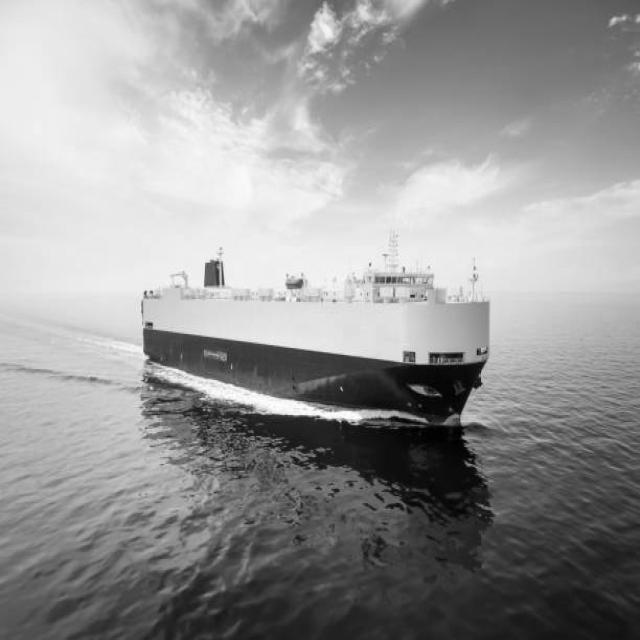Ro-Ro: (128, 216, 498, 439)
